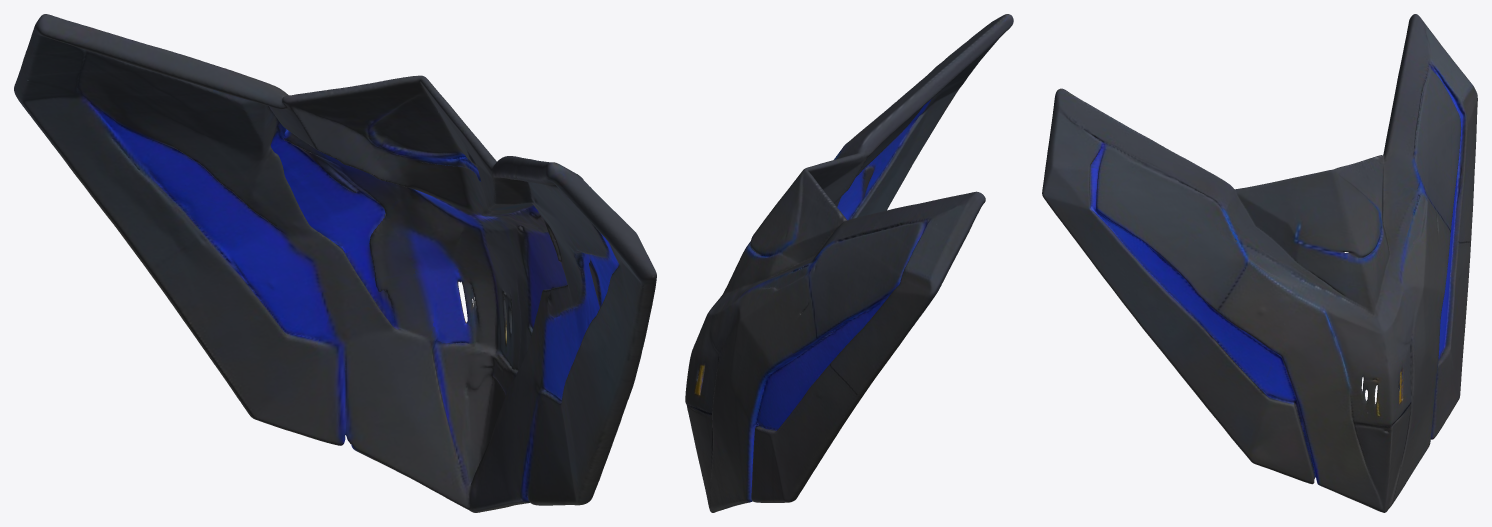
File: shield.fbx
3 renders of one model, left to right at view 1: azimuth 30°, elevation 25°; view 2: azimuth 150°, elevation 25°; view 3: azimuth 270°, elevation 25°, orthographic. The views are drawn at different scales.
Parts seen in each view (by area): view 1: tripo_node_641c8468; view 2: tripo_node_641c8468; view 3: tripo_node_641c8468.
Part boxes in pixels (x1,y1,x2,y2): tripo_node_641c8468: [14, 14, 656, 512]; tripo_node_641c8468: [685, 14, 1013, 512]; tripo_node_641c8468: [1042, 14, 1477, 512].
Size of the model in its own units: 0.7639 by 0.9401 by 1.
Materials: 1 (1 with a texture image).
